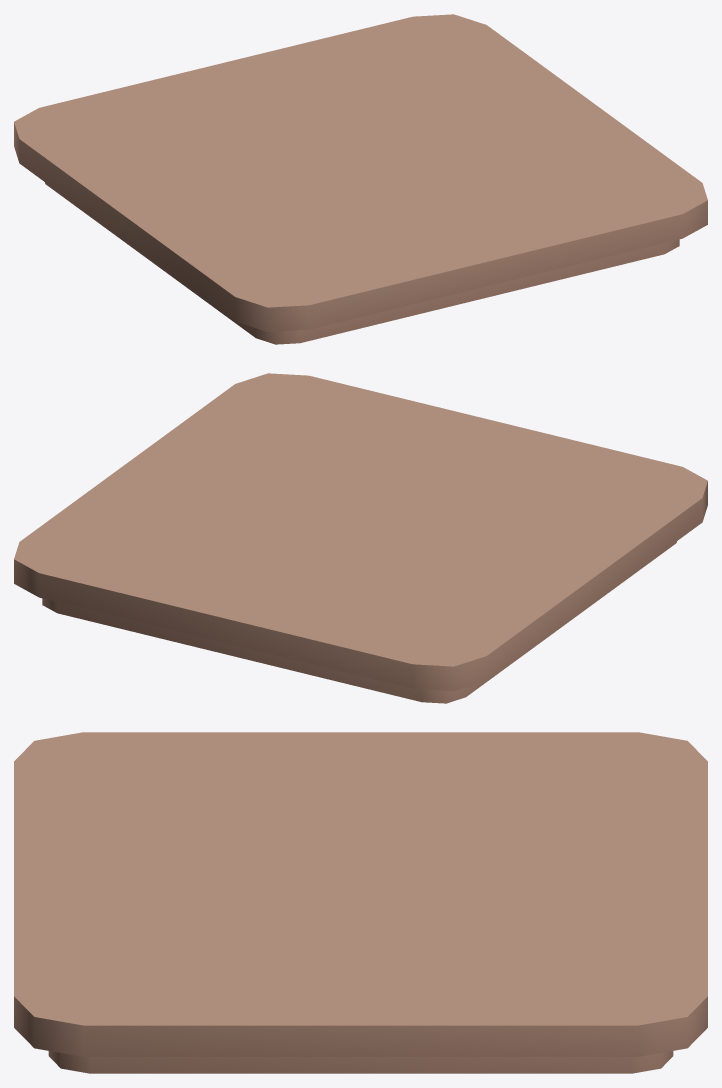
File: surfaces-surface-rounded-edge.glb
3 renders of one model, top to bottom at view 1: azimuth 30°, elevation 25°; view 2: azimuth 150°, elevation 25°; view 3: azimuth 270°, elevation 25°, orthographic. The views are drawn at different scales.
Visible parts, largest first — view 1: surfaces-surface-rounded-edge; view 2: surfaces-surface-rounded-edge; view 3: surfaces-surface-rounded-edge.
Boxes of the visible parts, x1,y1,x2,y2 form: surfaces-surface-rounded-edge: (14, 14, 707, 344); surfaces-surface-rounded-edge: (14, 373, 707, 703); surfaces-surface-rounded-edge: (14, 732, 707, 1073).
Bounding box in the file's own units: 1 × 0.1 × 1.
